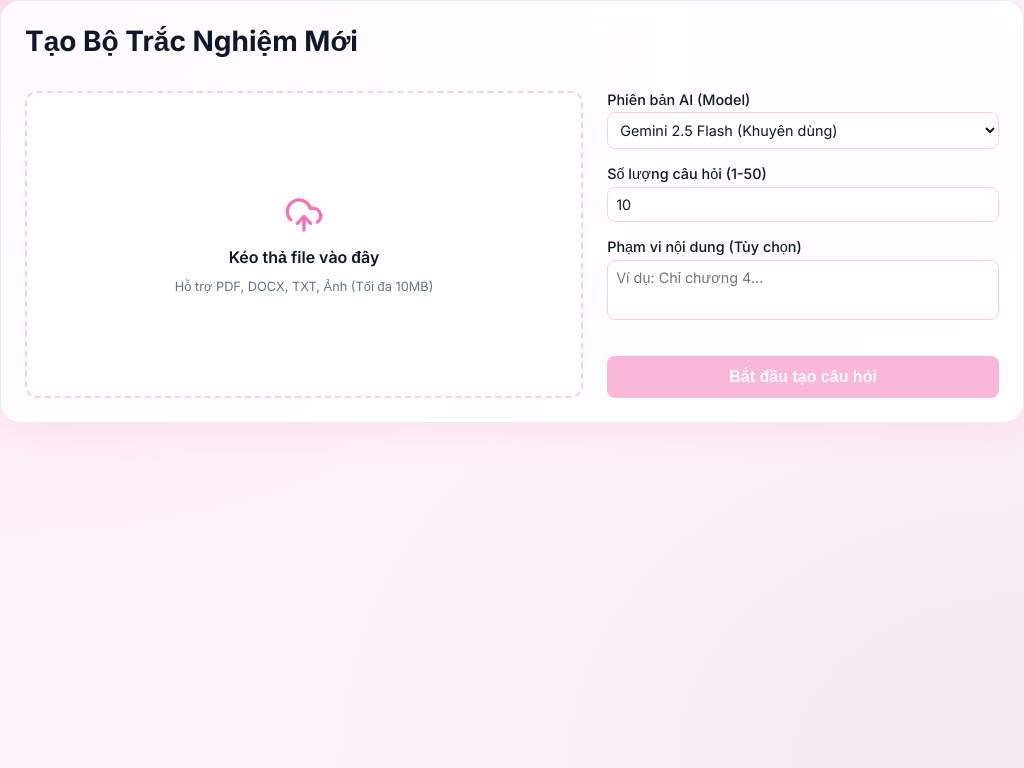
Test case: Tier 2: Boundary & Corner Cases › Boundary Group 4: Question Count & Scope Bounds › T2.15: resets question count to 10 on blur when input is cleared or < 1
The image size is (1024, 768).
Clear the number field: (803, 205) x1=607 y1=187 x2=999 y2=222
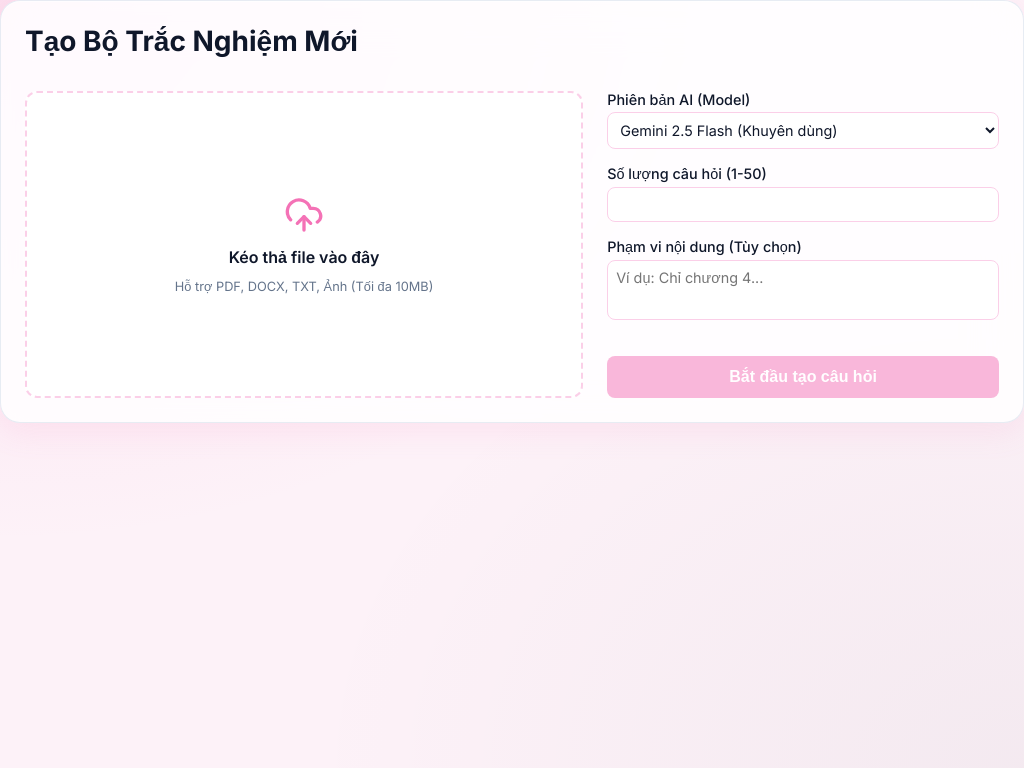
Leave the number field, box x1=607 y1=187 x2=999 y2=222
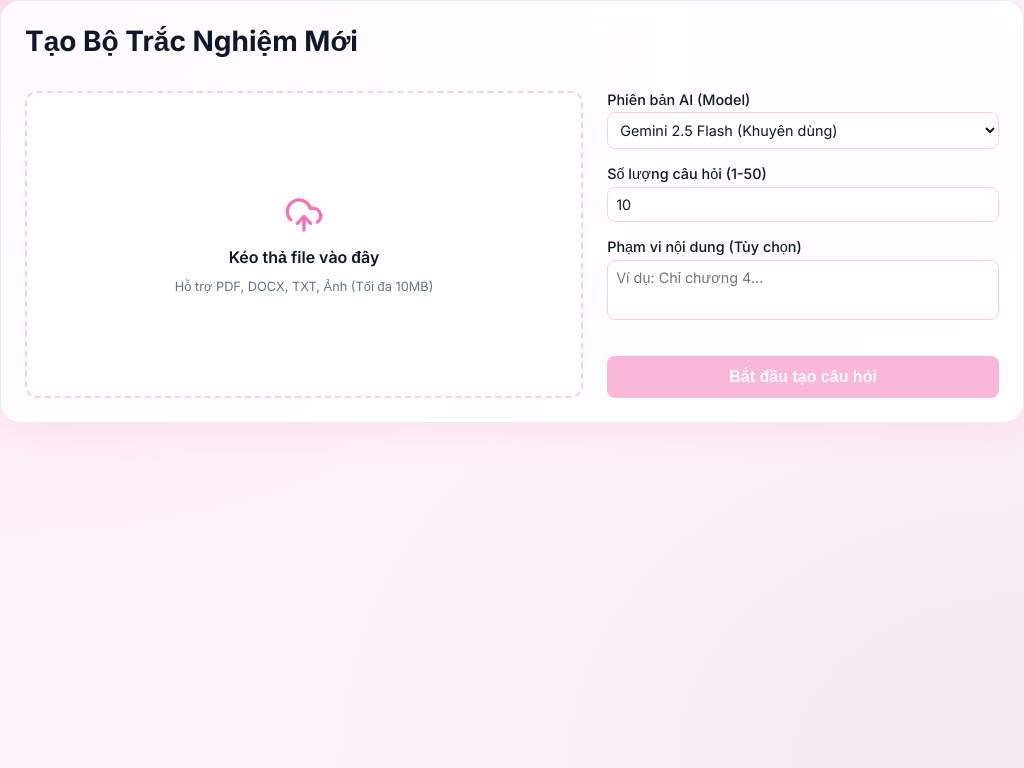
expect the number field holds "10": met, box x1=607 y1=187 x2=999 y2=222
